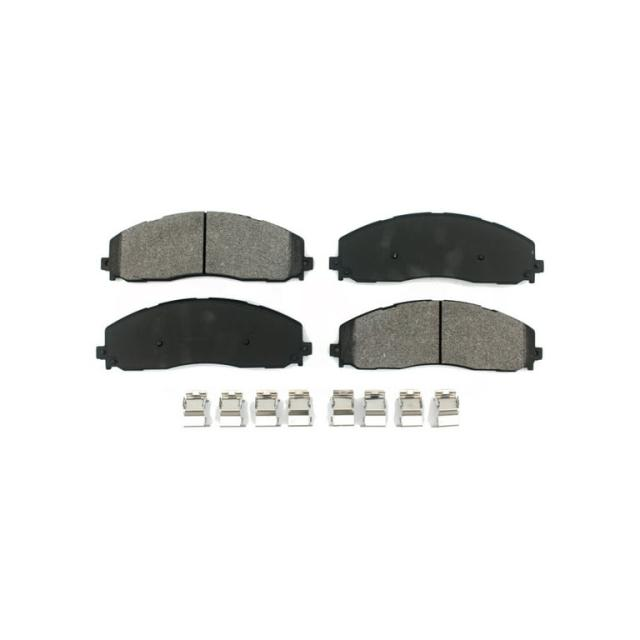brake_pad: (328, 296, 554, 383), (327, 203, 554, 289), (91, 296, 317, 382), (97, 206, 315, 292)
